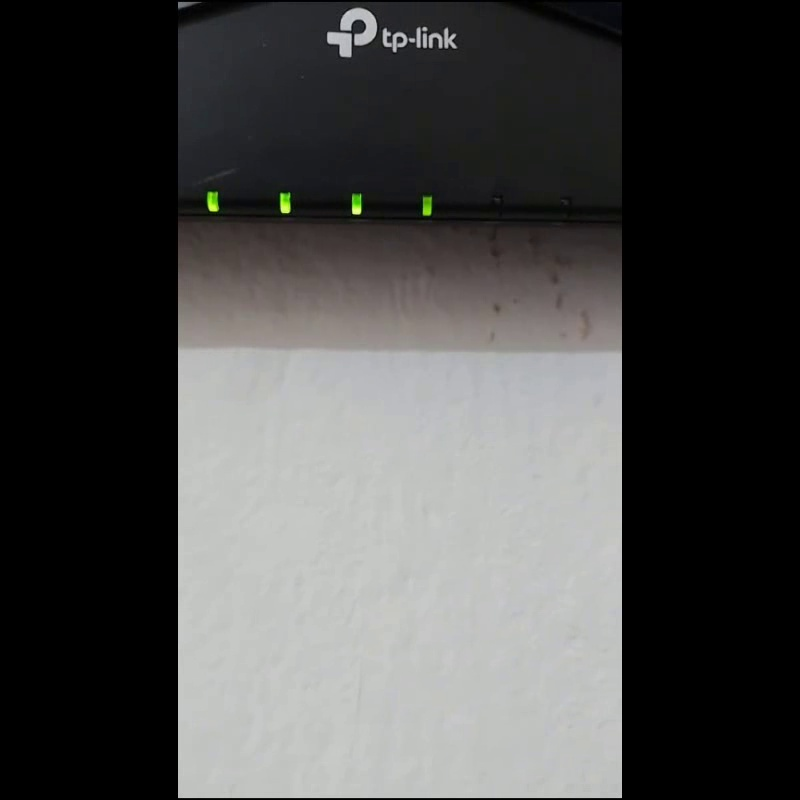off: (491, 195, 502, 215), (560, 195, 569, 216)
on_green: (206, 191, 219, 211), (421, 196, 433, 216), (280, 192, 290, 213), (351, 193, 361, 213)
